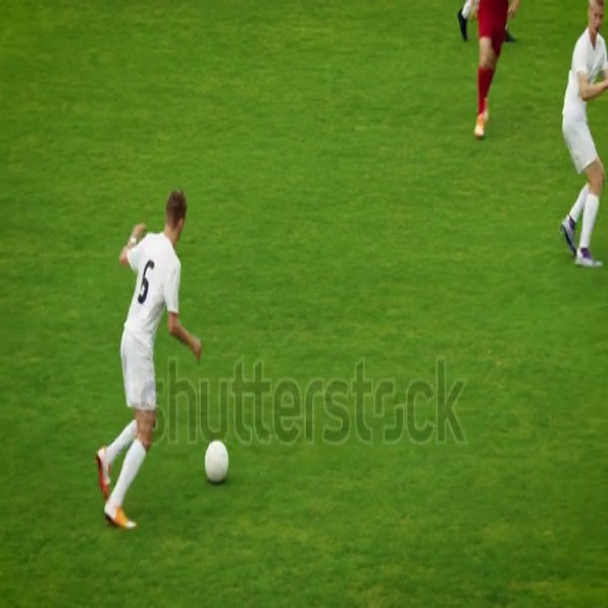ball: (201, 437, 232, 485)
